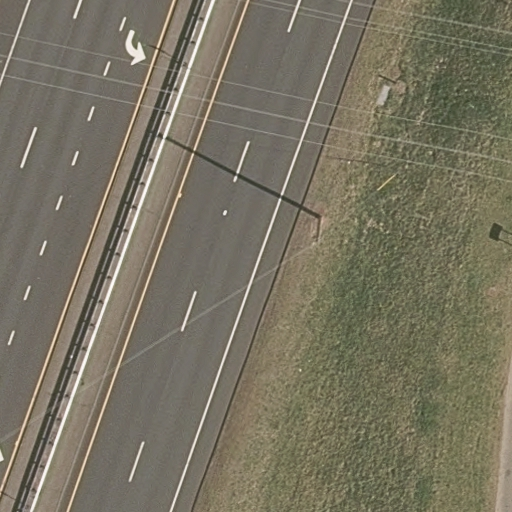DT: (305, 208, 333, 252)
